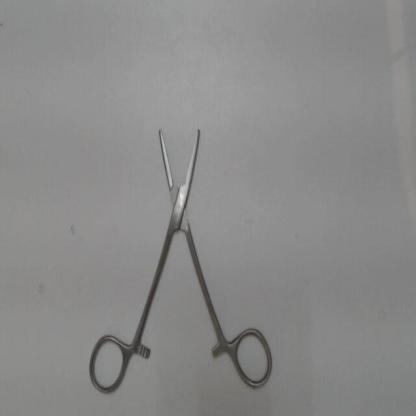Mayo Needle Holder: (84, 113, 276, 397)
